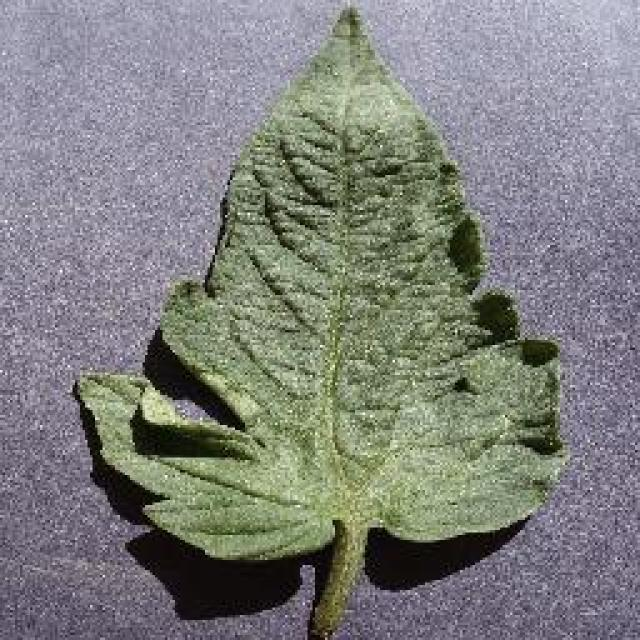Healthy: (73, 0, 575, 640)
